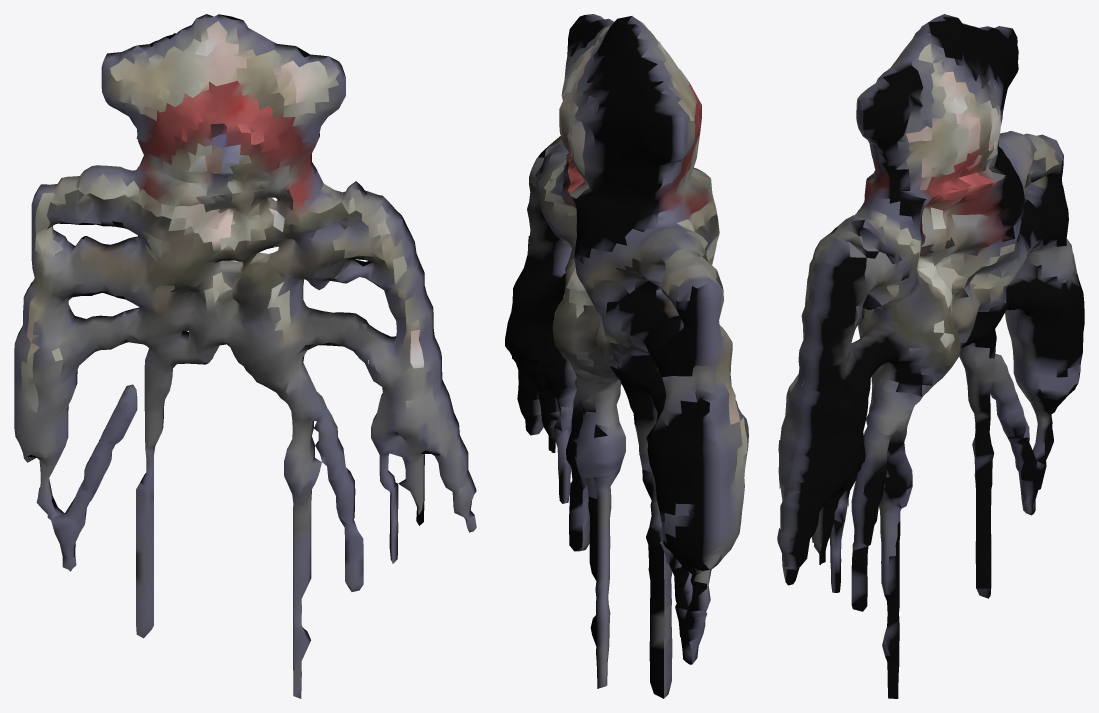
File: giant_squid.glb
3 views of the same model, side by side, from view 1: azimuth 30°, elevation 25°; view 2: azimuth 150°, elevation 25°; view 3: azimuth 270°, elevation 25° (orthographic). The views are drawn at different scales.
Visible parts, largest first — view 1: giant_squid; view 2: giant_squid; view 3: giant_squid.
Part boxes in pixels (left/top/right/bottom): giant_squid: left=14, top=14, right=476, bottom=698; giant_squid: left=505, top=14, right=748, bottom=698; giant_squid: left=777, top=14, right=1084, bottom=698.
Size of what is drawn, in the model's own units: 1.14 by 2.22 by 0.9478.
